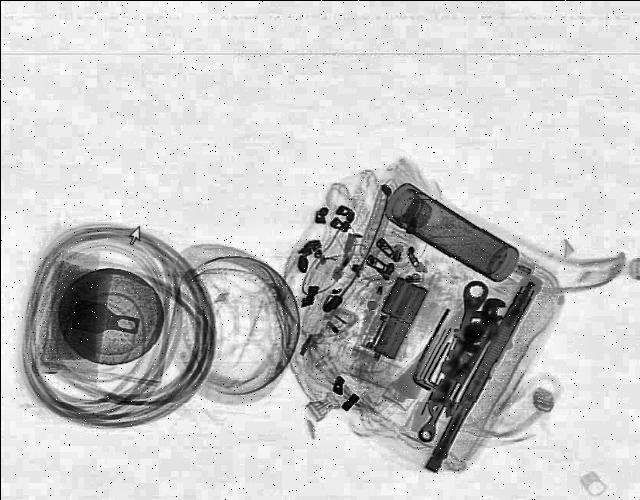Wrench: (408, 292, 514, 444)
